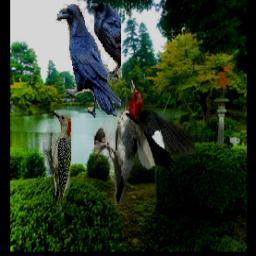Crow: (56, 3, 122, 118)
Woodpecker: (95, 78, 196, 205), (43, 112, 72, 217)
